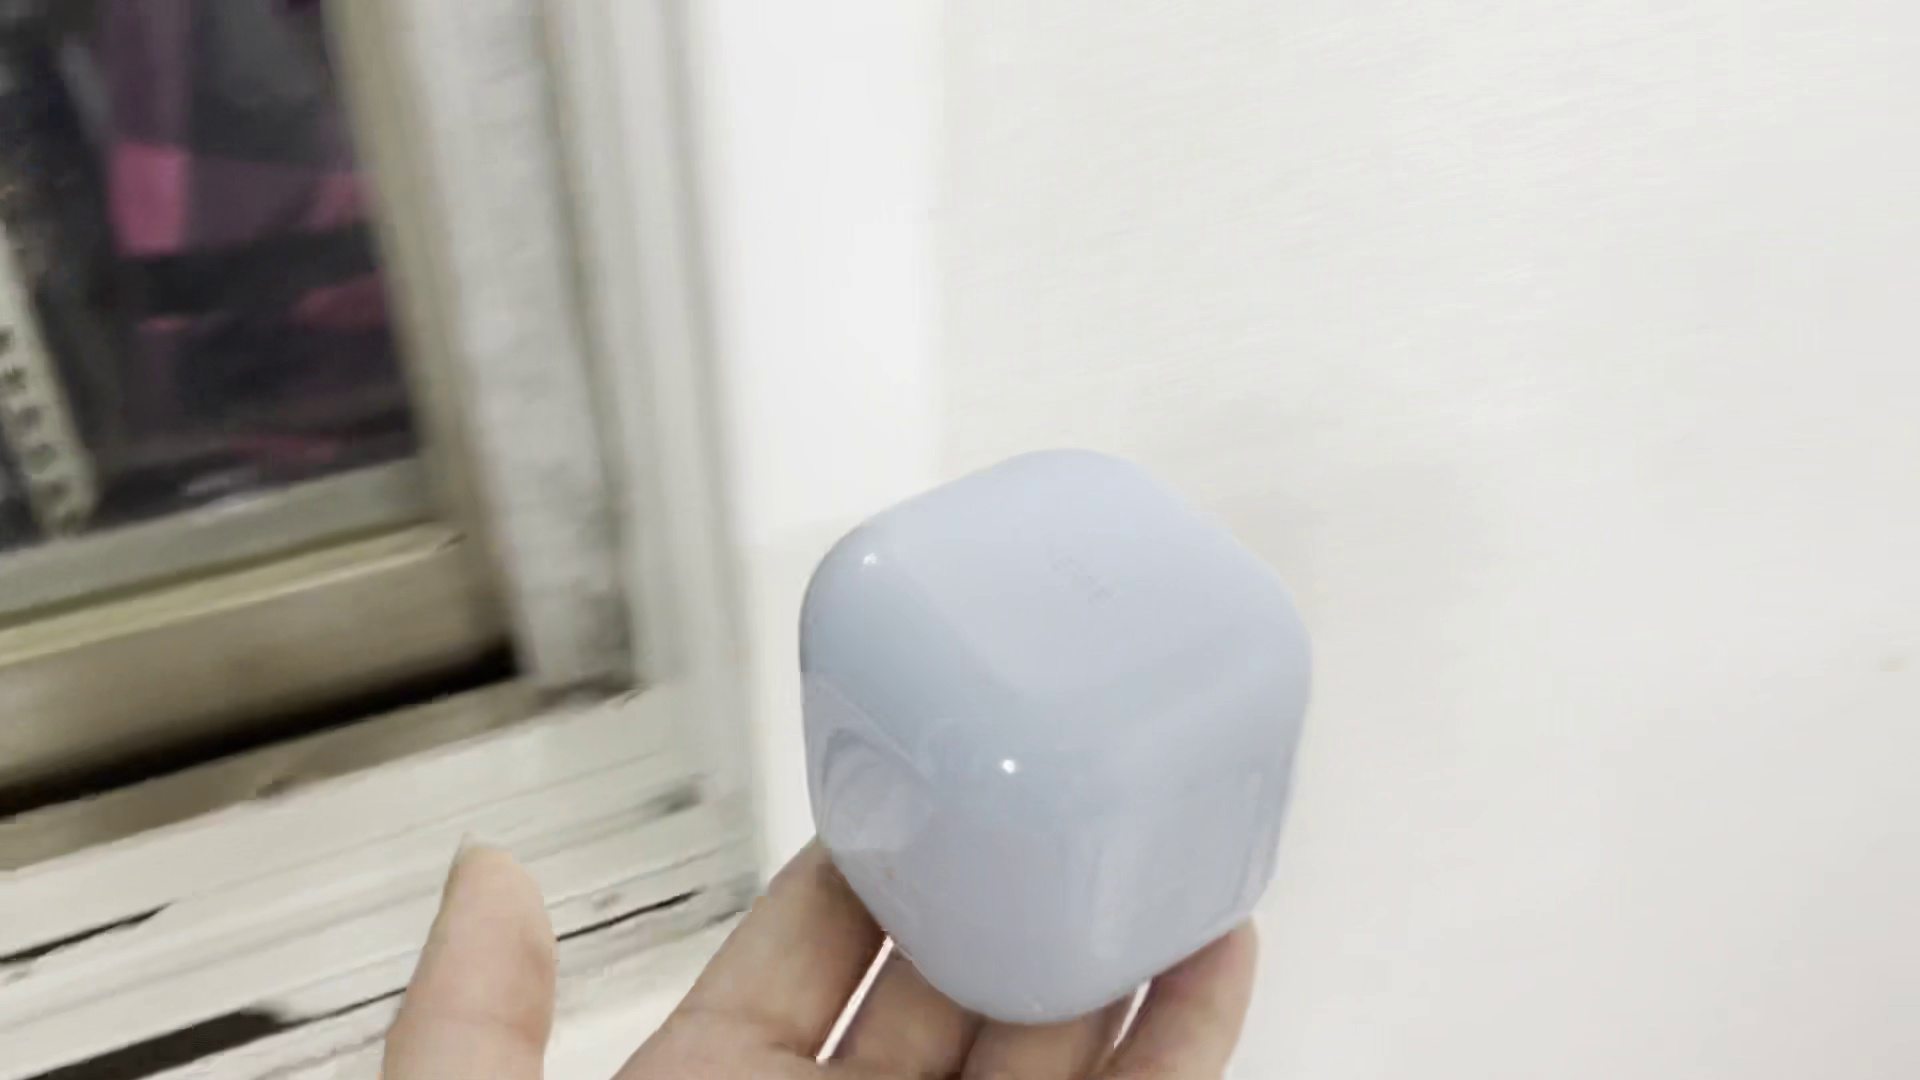cream: (803, 448, 1308, 1027)
